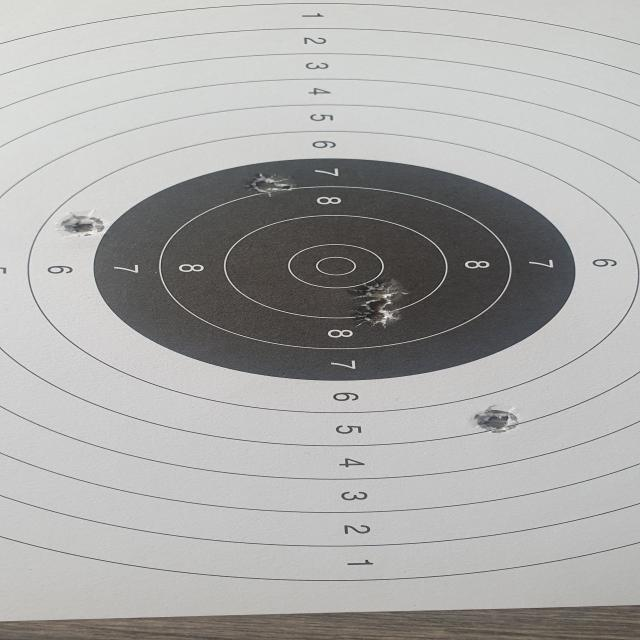10: (351, 280, 408, 308), (352, 309, 402, 329)
6: (468, 406, 526, 434)
7: (54, 210, 108, 238)
9: (247, 172, 296, 198)
Black Contour: (95, 157, 578, 380)
Target: (0, 2, 640, 583)
